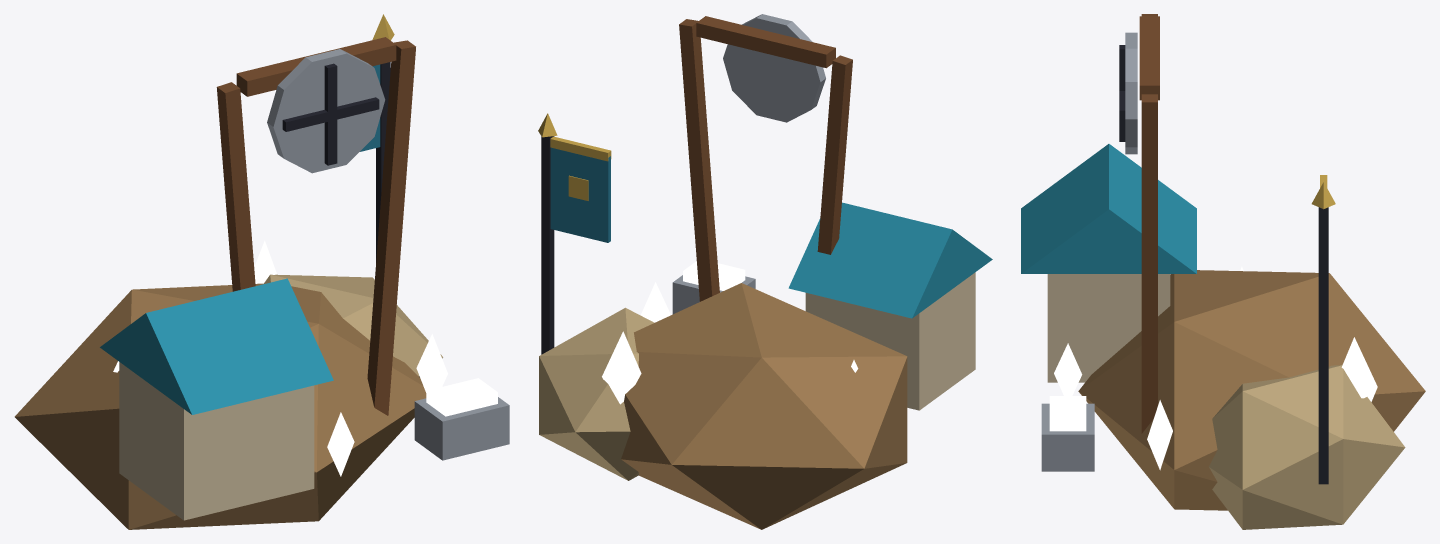
Rendered from mine_t3.glb.
3 views of the same model, side by side, from view 1: azimuth 30°, elevation 25°; view 2: azimuth 150°, elevation 25°; view 3: azimuth 270°, elevation 25° (orthographic). The views are drawn at different scales.
Visible parts, largest first — view 1: body, part_rotor, glow; view 2: body, part_rotor, glow; view 3: body, glow, part_rotor.
Boxes of the visible parts, x1,y1,x2,y2 form: body: (14,14,509,529); part_rotor: (267,49,385,173); glow: (113,240,497,476); body: (538,16,992,529); part_rotor: (723,14,825,122); glow: (602,261,858,404); body: (1021,14,1425,529); glow: (1049,266,1377,470); part_rotor: (1119,32,1137,154).
Size of the model in its own units: 2.05 by 2.49 by 1.98.
